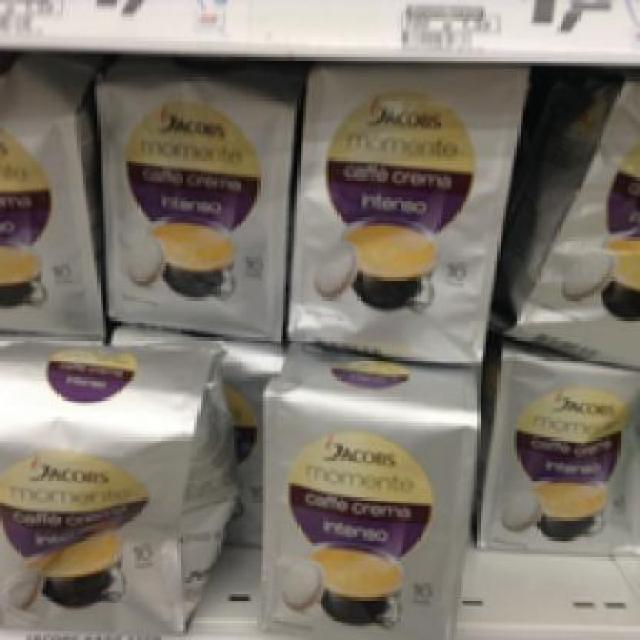Coffee: (0, 339, 232, 638), (288, 60, 518, 357), (252, 348, 474, 638), (89, 63, 288, 343), (517, 74, 637, 360), (477, 343, 637, 548), (0, 57, 109, 337)
